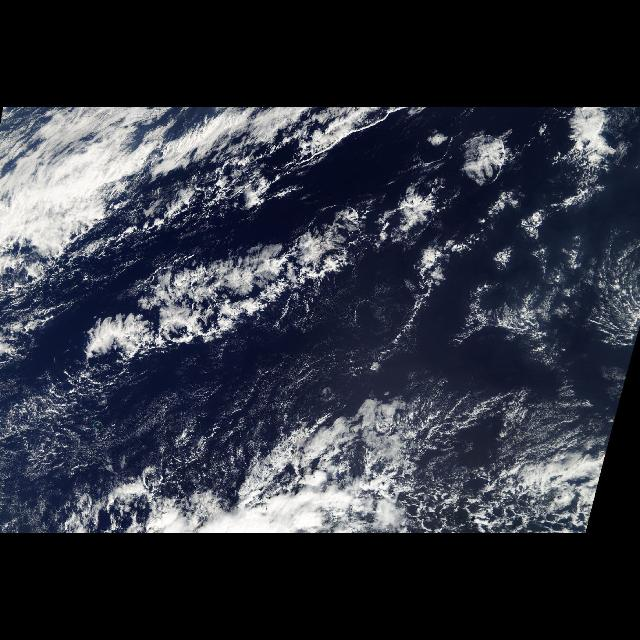Fish: (73, 171, 470, 363)
Gravel: (387, 461, 578, 533)
Sugar: (3, 333, 349, 533), (503, 386, 619, 452)
